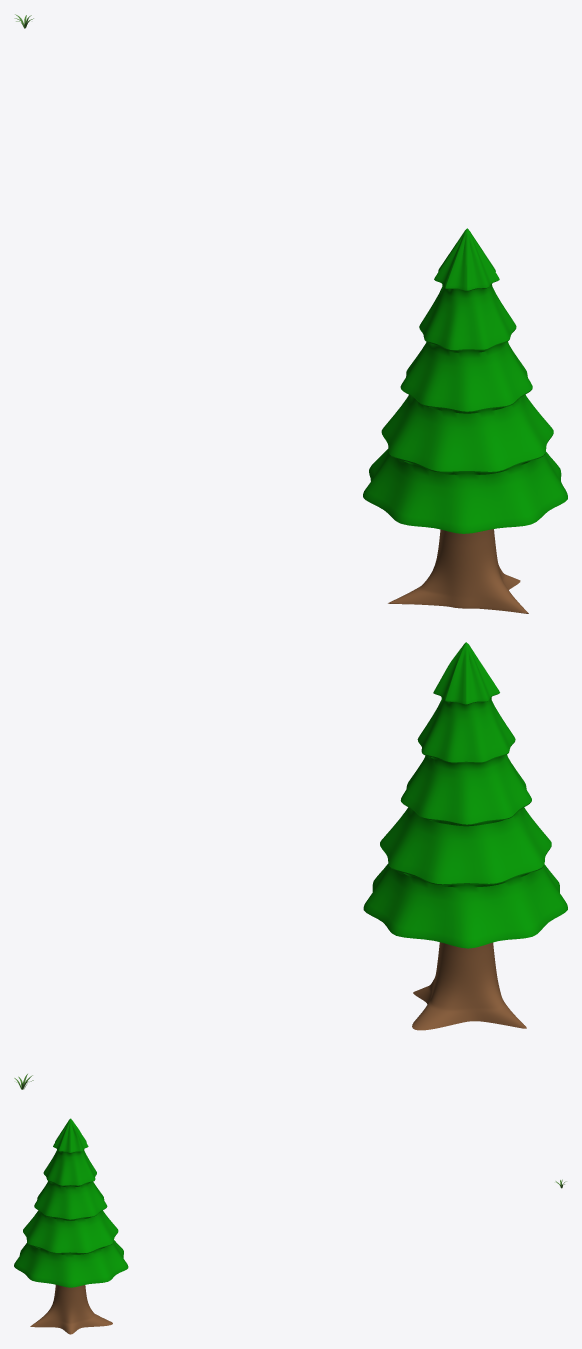
File: Etraf.fbx
The picture shows the model from 3 angles, top to bottom: view 1: azimuth 30°, elevation 25°; view 2: azimuth 150°, elevation 25°; view 3: azimuth 270°, elevation 25°; orthographic projection. The views are drawn at different scales.
Visible parts, largest first — view 1: tree; view 2: tree; view 3: tree.
Boxes of the visible parts, x1,y1,x2,y2 form: tree: (363, 228, 567, 613); tree: (363, 642, 567, 1030); tree: (14, 1118, 128, 1334).
Size of what is drawn, in the model's own units: 6.13 by 12.02 by 29.9.
